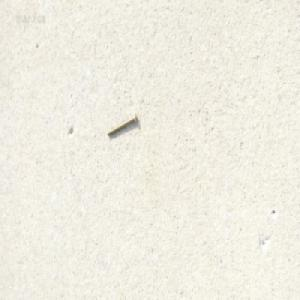Bolt: (106, 112, 136, 137)
